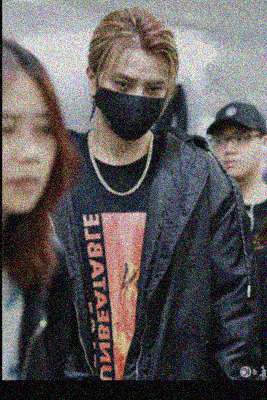with_mask: (94, 70, 167, 136)
without_mask: (2, 108, 58, 213), (212, 127, 261, 178)
